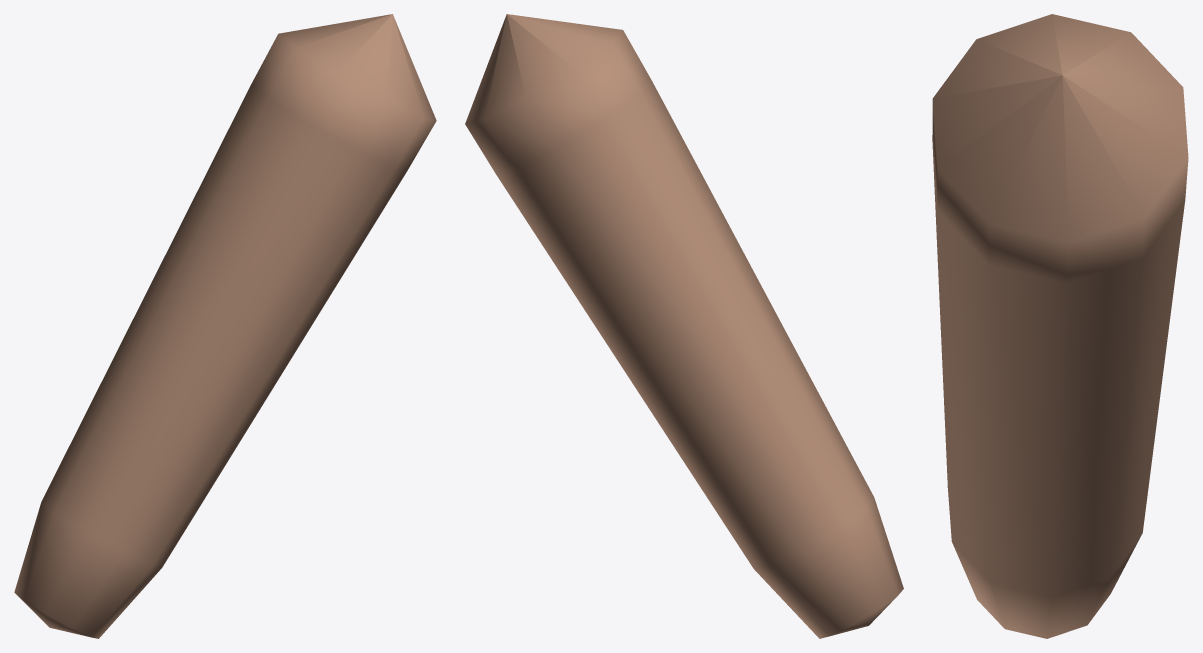
Rendered from forearm_R.obj.
The picture shows the model from 3 angles, left to right: view 1: azimuth 30°, elevation 25°; view 2: azimuth 150°, elevation 25°; view 3: azimuth 270°, elevation 25°; orthographic projection. The views are drawn at different scales.
Visible parts, largest first — view 1: forearm_R; view 2: forearm_R; view 3: forearm_R.
Part boxes in pixels (box(x1,y1,x2,y2)): forearm_R: box(14, 14, 436, 638); forearm_R: box(465, 14, 903, 638); forearm_R: box(932, 14, 1188, 638).
Size of the model in its own units: 0.2228 by 0.2825 by 0.0837.
